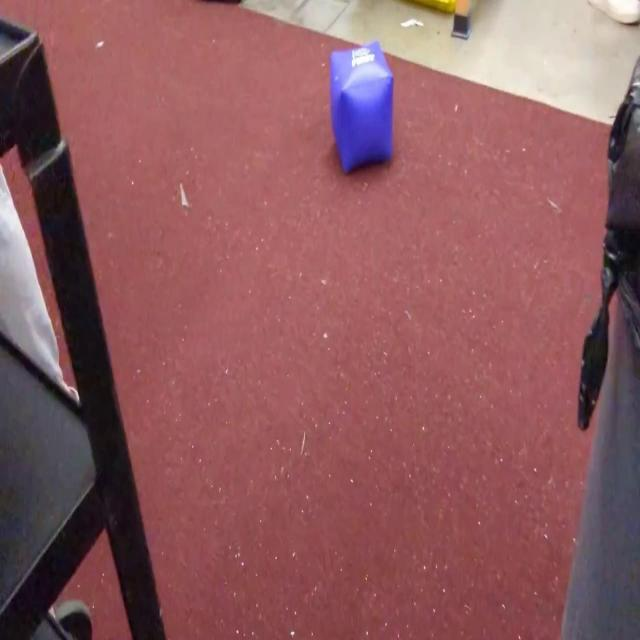frc_cube: (331, 41, 395, 176)
